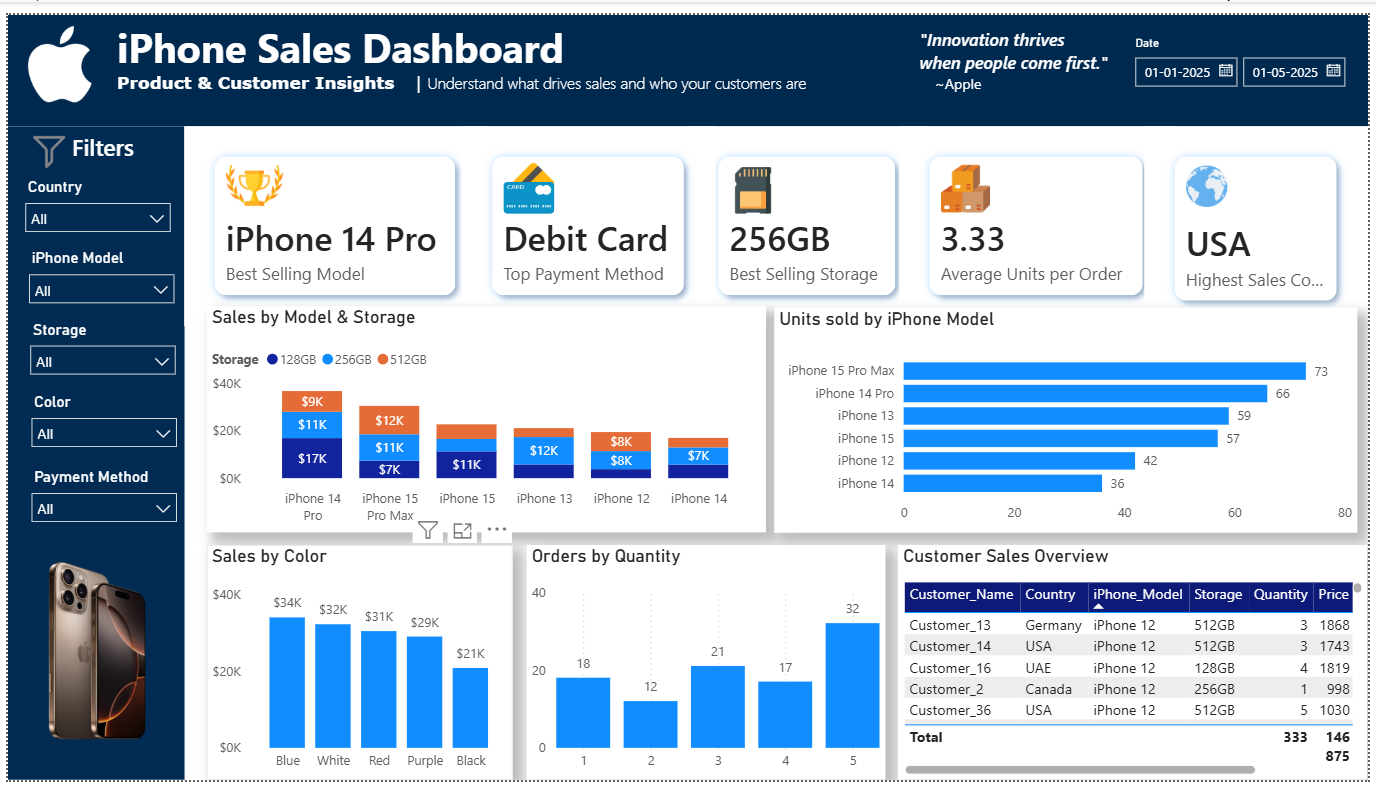

This screenshot's page, from the dashboard's own definition file:
{"tool":"powerbi","page":{"name":"Page 2","canvas":[1280,720],"ordinal":1},"visuals":[{"type":"shape","box":[0,0,1280,105],"z":0},{"type":"shape","box":[0,104.7,166.3,615.1],"z":1000},{"type":"image","box":[0,7.5,97.5,78.8],"z":2000},{"type":"image","box":[0,476.7,162.8,243],"z":3000},{"type":"textbox","box":[55.8,104.7,83.7,43],"z":4000},{"type":"image","box":[20.9,110.5,34.9,37.2],"z":5000},{"type":"slicer","fields":{"Values":["iPhone Sales.Storage"]},"box":[10.5,282.6,157,68.6],"z":6000},{"type":"slicer","fields":{"Values":["iPhone Sales.Color"]},"box":[11.6,351.2,157,69.8],"z":7000},{"type":"slicer","fields":{"Values":["iPhone Sales.Payment_Method"]},"box":[11.6,420.9,157,74.4],"z":8000},{"type":"slicer","fields":{"Values":["iPhone Sales.Country"]},"box":[5.8,147.7,157,67.4],"z":9000},{"type":"slicer","fields":{"Values":["iPhone Sales.iPhone_Model"]},"box":[9.3,215.1,157,67.4],"z":10000},{"type":"textbox","box":[97.5,0,448.8,62.5],"z":11000},{"type":"textbox","box":[853.1,7.4,204.9,77.8],"z":12000},{"type":"textbox","box":[97.7,46.5,667.4,44.2],"z":13000},{"type":"slicer","fields":{"Values":["iPhone Sales.Sale_Date"]},"box":[1048.1,14.8,222.5,63.8],"z":14000},{"type":"cardVisual","fields":{"Data":["iPhone Sales.Best Selling Model"]},"box":[166.3,104.7,284.9,188.4],"z":16000},{"type":"cardVisual","fields":{"Data":["iPhone Sales.Best Selling Storage"]},"box":[639.5,104.7,224.4,188.4],"z":17000},{"type":"cardVisual","fields":{"Data":["iPhone Sales.Average Units per Order"]},"box":[838.4,104.7,258.1,188.4],"z":18000},{"type":"cardVisual","fields":{"Data":["iPhone Sales.Highest Sales Country"]},"box":[1069.8,104.7,210.5,193],"z":19000},{"type":"cardVisual","fields":{"Data":["iPhone Sales.Top Payment Method"]},"box":[426.7,104.7,238.4,188.4],"z":20000},{"type":"columnChart","title":"Sales by Model & Storage","fields":{"Series":["iPhone Sales.Storage"],"Category":["iPhone Sales.iPhone_Model"],"Y":["iPhone Sales.Total Sales"]},"box":[187.2,274.4,526.7,212.8],"z":20001},{"type":"clusteredBarChart","title":"Units sold by iPhone Model","fields":{"Category":["iPhone Sales.iPhone_Model"],"Y":["iPhone Sales.Total Units Sold"]},"box":[720.9,275.6,548.8,211.6],"z":20002},{"type":"clusteredColumnChart","title":"Sales by Color","fields":{"Category":["iPhone Sales.Color"],"Y":["iPhone Sales.Total Sales"]},"box":[187.2,498.8,288.4,220.9],"z":20003},{"type":"clusteredColumnChart","title":"Orders by Quantity","fields":{"Category":["iPhone Sales.Quantity"],"Y":["iPhone Sales.Total Orders"]},"box":[488.4,498.8,337.2,220.9],"z":20004},{"type":"tableEx","title":"Customer Sales Overview","fields":{"Values":["iPhone Sales.Customer_Name","iPhone Sales.Country","iPhone Sales.iPhone_Model","iPhone Sales.Storage","Sum(iPhone Sales.Quantity)","Sum(iPhone Sales.Price)","iPhone Sales.Payment_Method"]},"box":[837.2,498.8,441.9,220.9],"z":20005}]}

Visuals, with their boxes in screenshot pixels (x1, y1, x2, y2):
shape: region(4, 11, 1361, 122)
shape: region(4, 122, 180, 774)
image: region(4, 19, 107, 102)
image: region(4, 516, 176, 774)
textbox: region(63, 122, 151, 167)
image: region(26, 128, 63, 167)
slicer - iPhone Sales.Storage: region(15, 310, 181, 383)
slicer - iPhone Sales.Color: region(16, 383, 182, 457)
slicer - iPhone Sales.Payment_Method: region(16, 457, 182, 536)
slicer - iPhone Sales.Country: region(10, 167, 176, 239)
slicer - iPhone Sales.iPhone_Model: region(13, 239, 180, 310)
textbox: region(107, 11, 583, 77)
textbox: region(908, 19, 1125, 101)
textbox: region(107, 60, 815, 107)
slicer - iPhone Sales.Sale_Date: region(1115, 26, 1351, 94)
cardVisual - iPhone Sales.Best Selling Model: region(180, 122, 482, 321)
cardVisual - iPhone Sales.Best Selling Storage: region(682, 122, 919, 321)
cardVisual - iPhone Sales.Average Units per Order: region(892, 122, 1166, 321)
cardVisual - iPhone Sales.Highest Sales Country: region(1138, 122, 1361, 326)
cardVisual - iPhone Sales.Top Payment Method: region(456, 122, 709, 321)
"Sales by Model & Storage" columnChart: region(202, 302, 760, 527)
"Units sold by iPhone Model" clusteredBarChart: region(768, 303, 1350, 527)
"Sales by Color" clusteredColumnChart: region(202, 540, 508, 774)
"Orders by Quantity" clusteredColumnChart: region(521, 540, 879, 774)
"Customer Sales Overview" tableEx: region(891, 540, 1360, 774)
